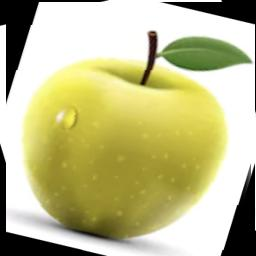Apple Fresh: (6, 2, 255, 256)
